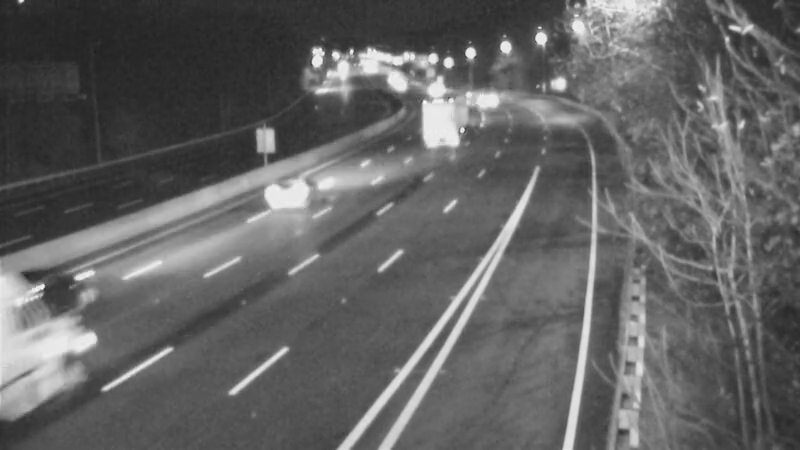vehicle: (1, 290, 94, 400), (253, 151, 333, 231), (377, 61, 427, 111), (404, 63, 454, 113), (461, 72, 511, 122), (439, 77, 489, 127), (424, 87, 474, 137)
